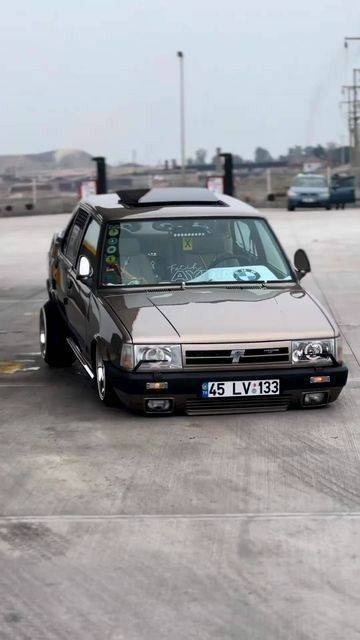plate: (200, 378, 287, 399)
